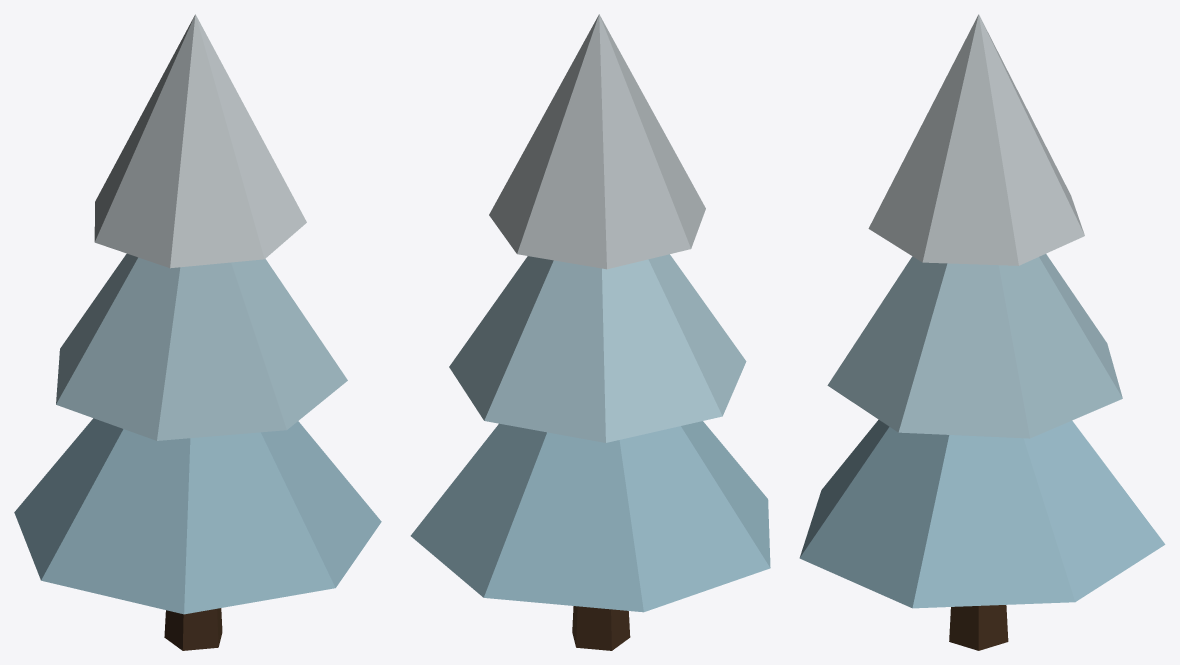
File: TreeSnowConifer_B.fbx
3 views of the same model, side by side, from view 1: azimuth 30°, elevation 25°; view 2: azimuth 150°, elevation 25°; view 3: azimuth 270°, elevation 25° (orthographic).
Visible parts, largest first — view 1: TreeSnowConifer_B; view 2: TreeSnowConifer_B; view 3: TreeSnowConifer_B.
Boxes of the visible parts, x1,y1,x2,y2 form: TreeSnowConifer_B: (14, 14, 381, 650); TreeSnowConifer_B: (410, 14, 770, 650); TreeSnowConifer_B: (799, 14, 1165, 650).
Size of the model in its own units: 2222 by 4200 by 2233.
